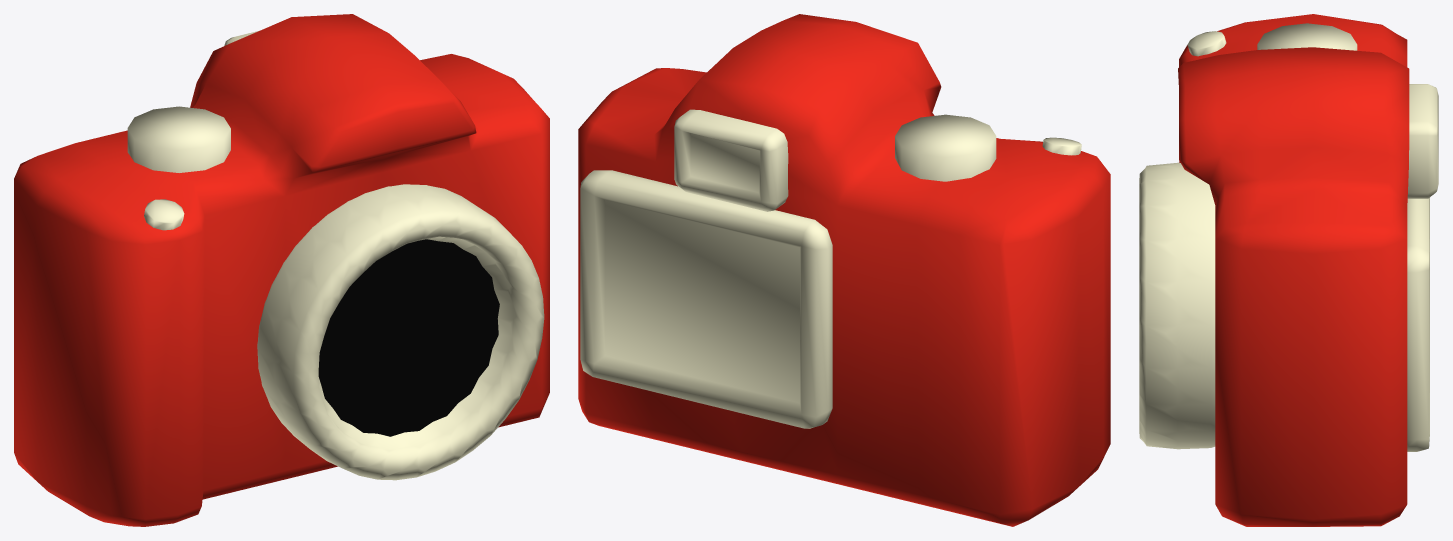
Rendered from camara.fbx.
3 renders of one model, left to right at view 1: azimuth 30°, elevation 25°; view 2: azimuth 150°, elevation 25°; view 3: azimuth 270°, elevation 25°, orthographic. The views are drawn at different scales.
Visible parts, largest first — view 1: polySurface16; view 2: polySurface16; view 3: polySurface16.
Boxes of the visible parts, bbox=[...] form: polySurface16: bbox=[14, 14, 549, 526]; polySurface16: bbox=[578, 14, 1110, 526]; polySurface16: bbox=[1139, 14, 1438, 526].
Size of the model in its own units: 0.3093 by 0.2412 by 0.1705.
